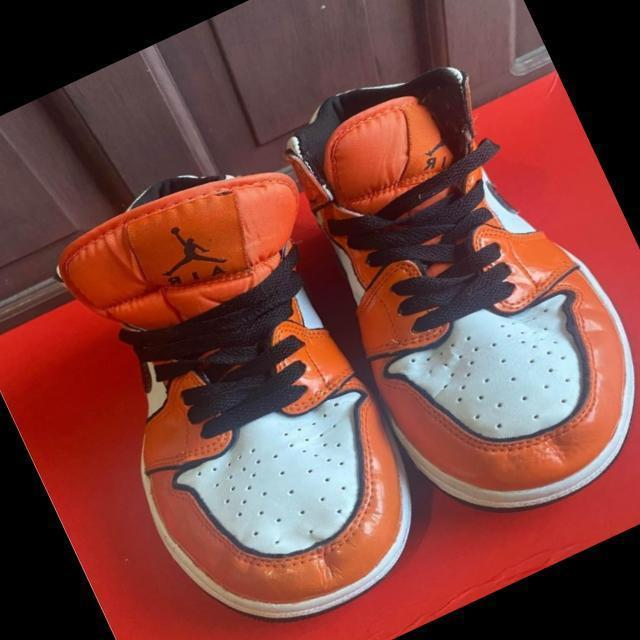nike fake jordan 1: (16, 126, 469, 640), (242, 20, 640, 559)
